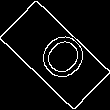O_SW: (22, 22, 88, 88)
